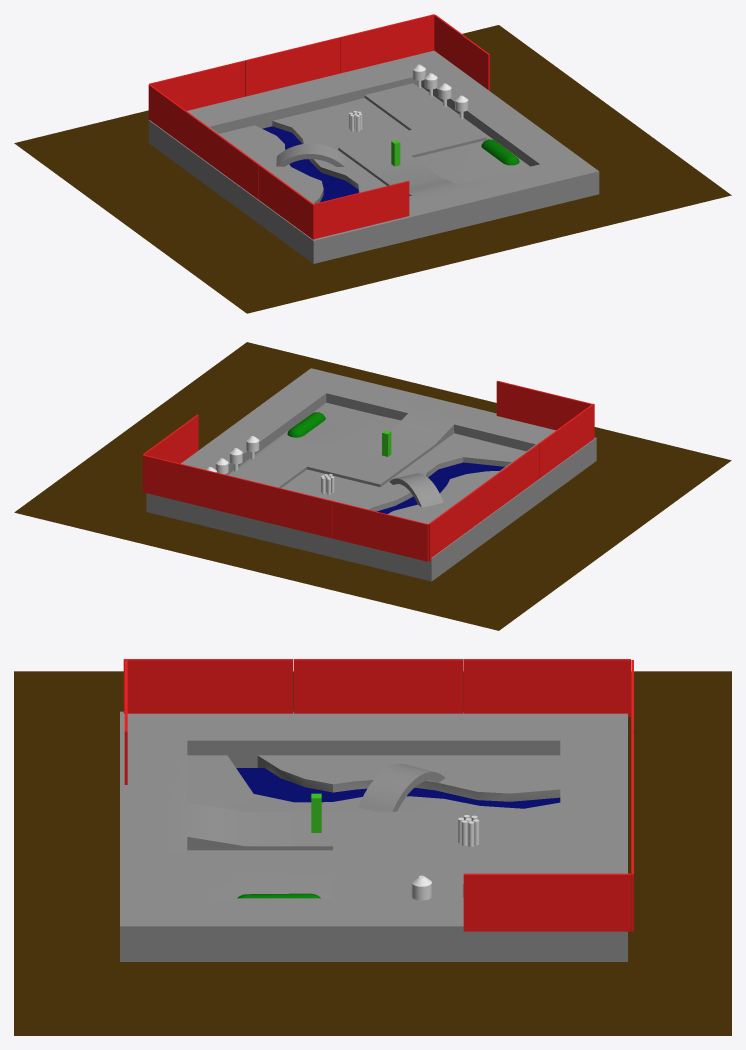
File: CourtyardWB.FBX
3 renders of one model, top to bottom at view 1: azimuth 30°, elevation 25°; view 2: azimuth 150°, elevation 25°; view 3: azimuth 270°, elevation 25°, orthographic. The views are drawn at different scales.
Parts seen in each view (by area): view 1: Plane003, Plane001, Box003, Box004, Box005, Box002, Box010, Box011, Box012, Box013, Plane002, Box014 (+1 smaller); view 2: Plane003, Plane001, Box002, Box003, Box004, Box005, Box013, Box011, Box012, Box010, Plane002, Box014 (+1 smaller); view 3: Plane003, Plane001, Box010, Box012, Box011, Box013, Plane002, Box014.
Part boxes in pixels (box(x1,y1,x2,y2)): Plane003: box(14, 25, 731, 313); Plane001: box(148, 50, 599, 263); Box003: box(244, 37, 340, 96); Box004: box(340, 14, 434, 73); Box005: box(313, 181, 409, 238); Box002: box(149, 60, 244, 110); Box010: box(434, 14, 489, 90); Box011: box(258, 164, 314, 239); Box012: box(203, 124, 259, 198); Box013: box(148, 84, 204, 158); Plane002: box(262, 126, 358, 202); Box014: box(276, 143, 345, 166); Plane003: box(14, 342, 731, 630); Plane001: box(146, 368, 596, 581); Box002: box(332, 501, 428, 561); Box003: box(236, 477, 332, 538); Box004: box(142, 454, 236, 514); Box005: box(496, 381, 591, 430); Box013: box(428, 484, 484, 561); Box011: box(538, 403, 594, 478); Box012: box(483, 444, 539, 518); Box010: box(142, 414, 198, 463); Plane002: box(377, 462, 504, 513); Box014: box(389, 473, 443, 507); Plane003: box(14, 671, 731, 1035); Plane001: box(120, 711, 627, 961); Box010: box(463, 873, 630, 931); Box012: box(294, 659, 463, 713); Box011: box(123, 659, 293, 713); Box013: box(463, 659, 630, 716); Plane002: box(236, 768, 560, 808); Box014: box(358, 763, 444, 811).
Size of the model in its own units: 823 by 102 by 685.
